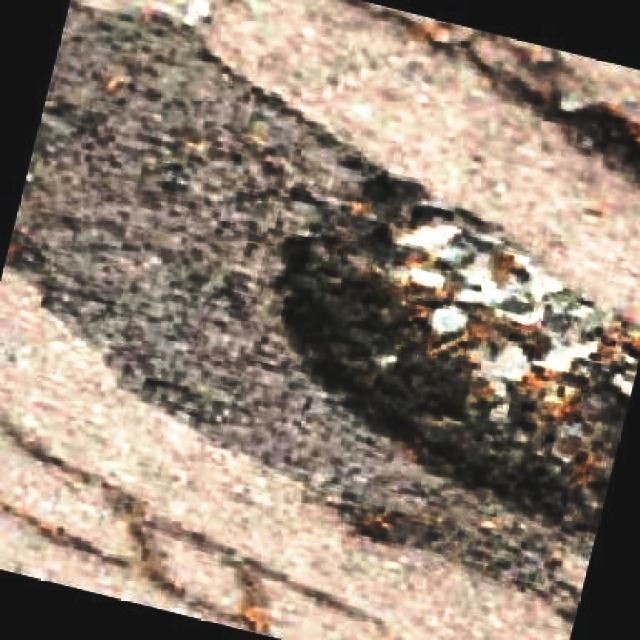pothole: (278, 160, 640, 551)
